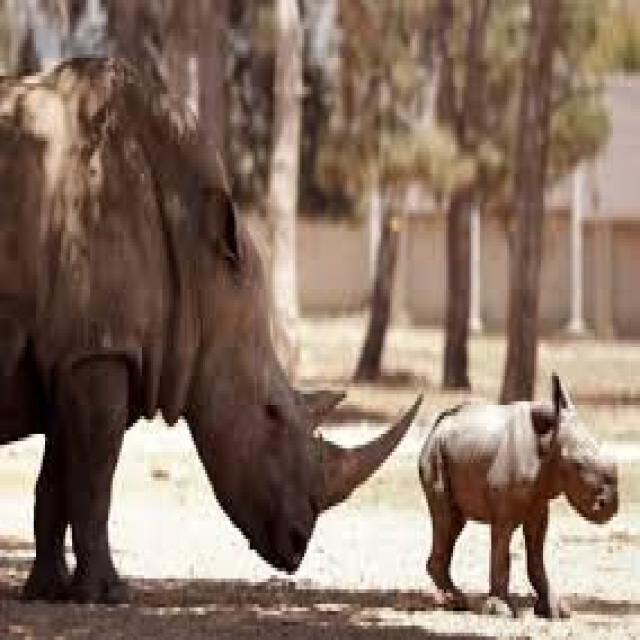Rinoceros: (0, 50, 432, 590), (417, 362, 620, 610)
